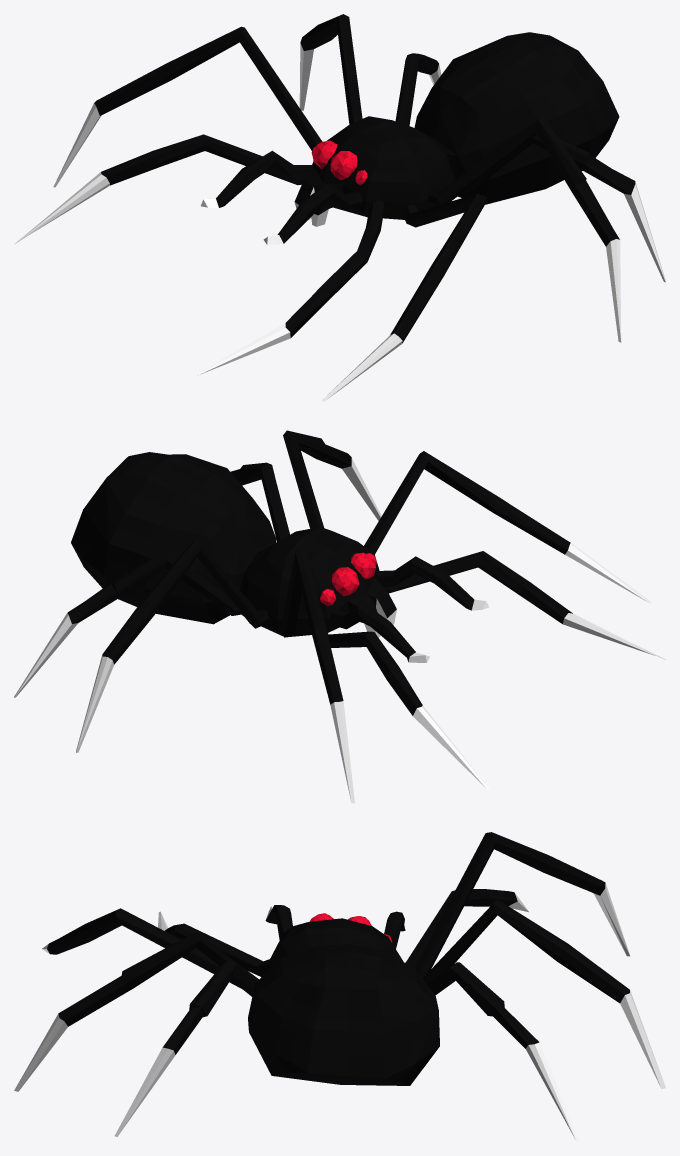
Rendered from spiderAttack6.obj.
The picture shows the model from 3 angles, top to bottom: view 1: azimuth 30°, elevation 25°; view 2: azimuth 150°, elevation 25°; view 3: azimuth 270°, elevation 25°; orthographic projection. The views are drawn at different scales.
Parts seen in each view (by area): view 1: Cube.004_Cube.005; view 2: Cube.004_Cube.005; view 3: Cube.004_Cube.005.
Boxes of the visible parts, bbox=[...] form: Cube.004_Cube.005: bbox=[14, 14, 665, 401]; Cube.004_Cube.005: bbox=[14, 430, 665, 803]; Cube.004_Cube.005: bbox=[14, 832, 665, 1141].
Bounding box in the file's own units: 31.33 × 10.89 × 34.69.
